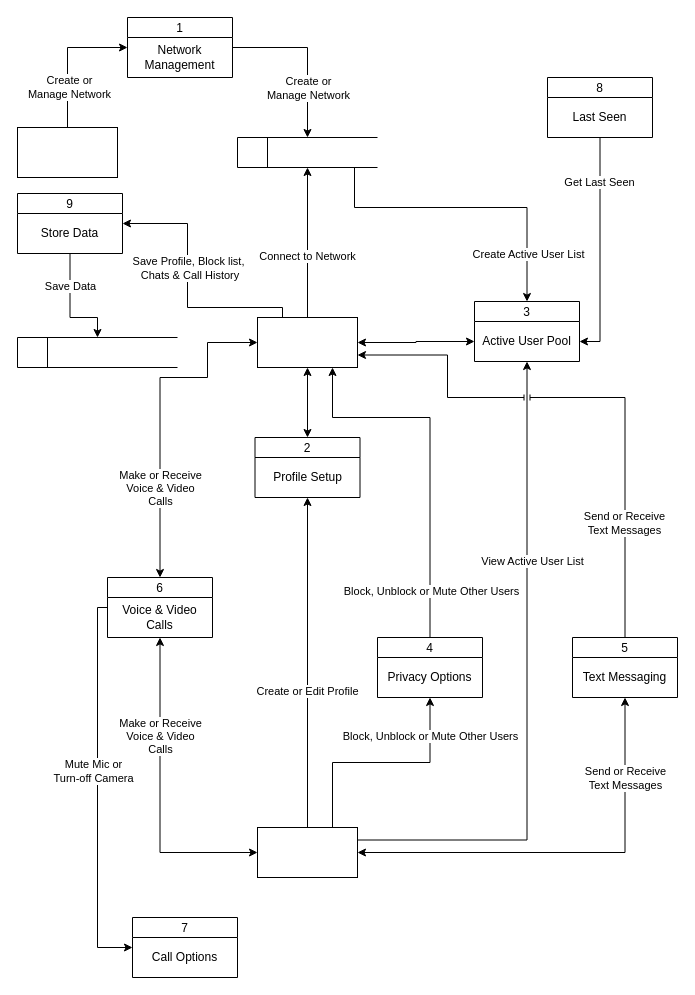
Image size: 695x995. Some labels were removed from this diagram. The box of each missing label's shape, as (x1, y1, x2, y2) in pixels:
AndroCom Application: (256, 316, 358, 368)
D1 AD HOC Network: (236, 136, 378, 168)
D2 Local Android Storage: (16, 336, 178, 368)
Microcontroller: (16, 126, 118, 178)
User: (256, 826, 358, 878)
